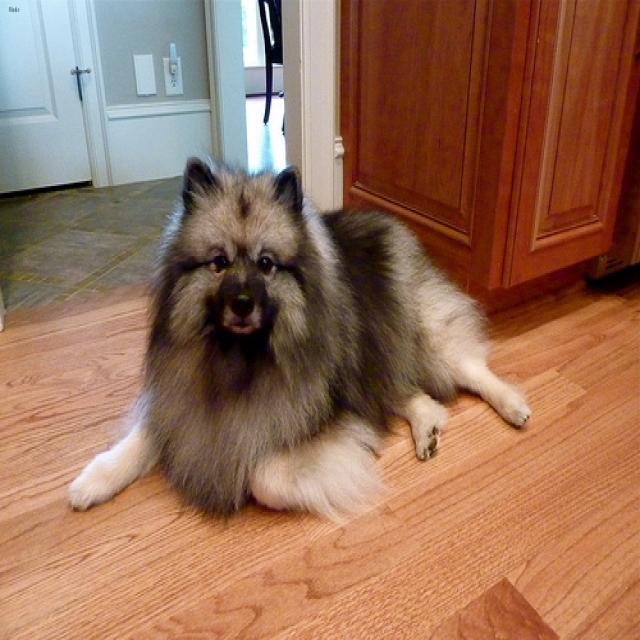dog-keeshond: (54, 142, 540, 532)
